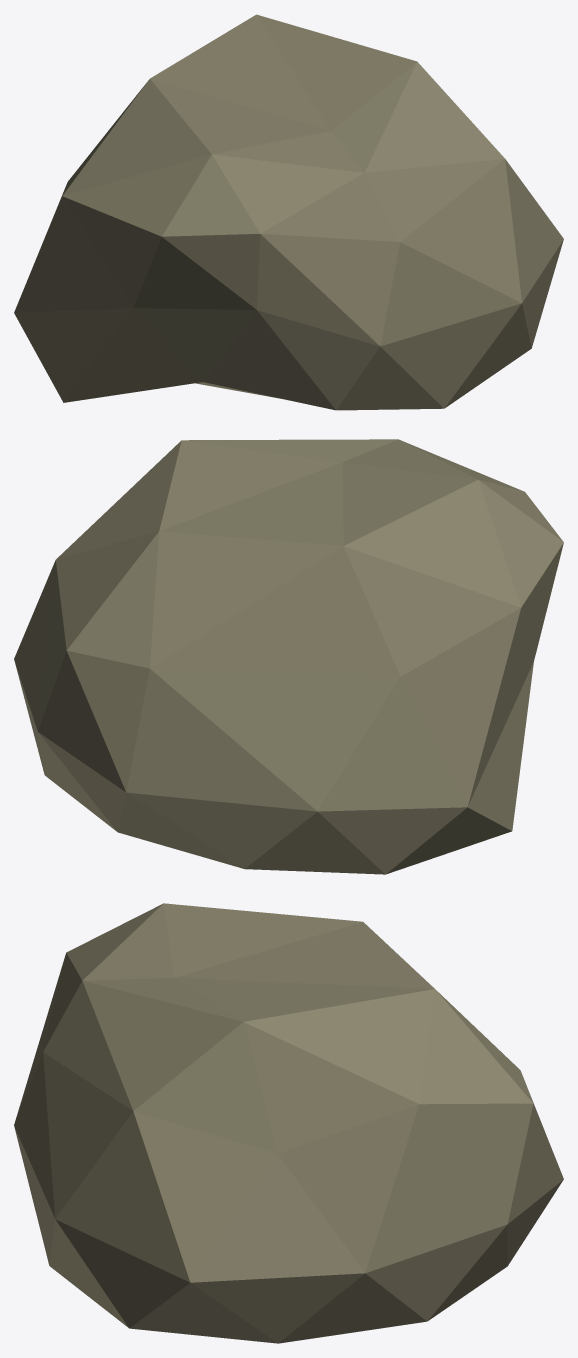
File: rock2.dae
The picture shows the model from 3 angles, top to bottom: view 1: azimuth 30°, elevation 25°; view 2: azimuth 150°, elevation 25°; view 3: azimuth 270°, elevation 25°; orthographic projection. The views are drawn at different scales.
Visible parts, largest first — view 1: Caillou3; view 2: Caillou3; view 3: Caillou3.
Boxes of the visible parts, x1=… form: Caillou3: x1=14, y1=14, x2=563, y2=410; Caillou3: x1=14, y1=439, x2=563, y2=874; Caillou3: x1=14, y1=903, x2=563, y2=1343.
Size of the model in its own units: 0.655 by 0.6449 by 0.3764.
